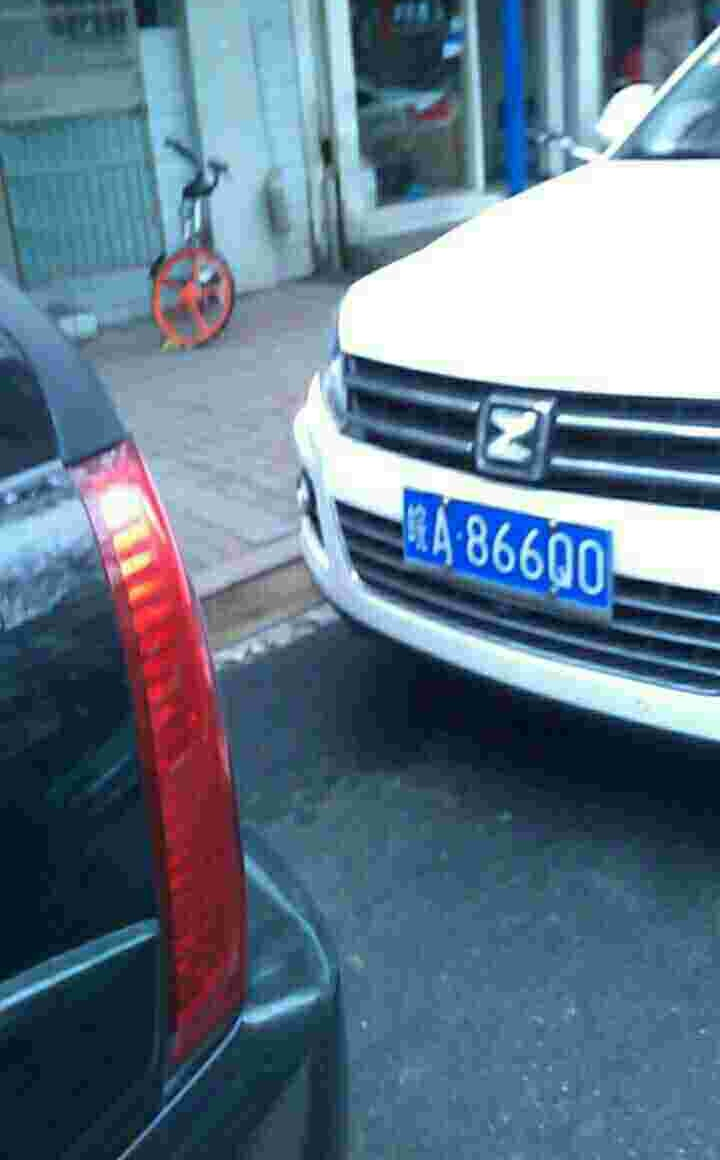license_plate: (399, 490, 612, 613)
